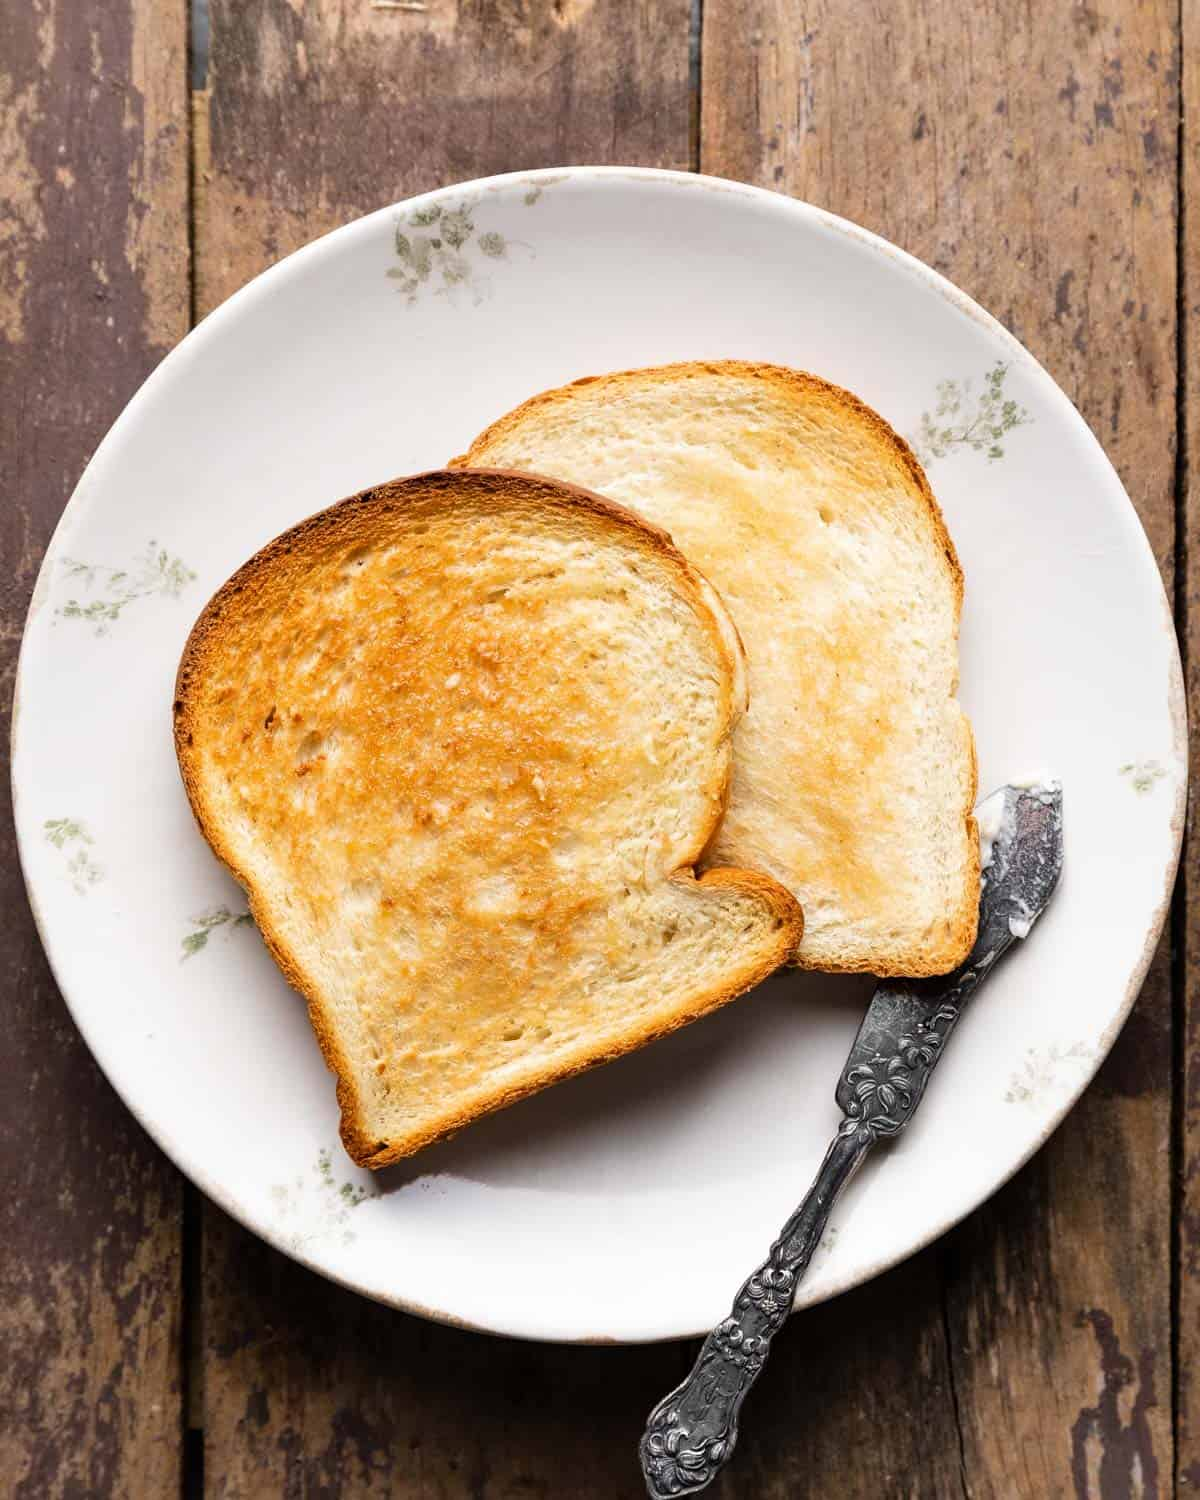Toast: (160, 467, 744, 1204), (437, 460, 456, 478)
